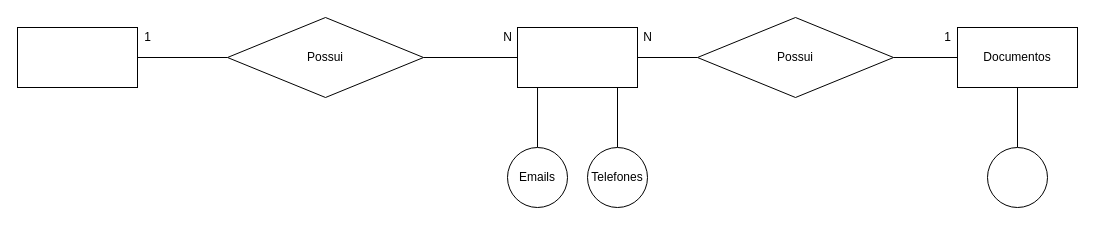
Image size: 1095x225. Some labels were removed from this diagram. The centre of each missing label's shape, as x and y in pixels:
"Cadastros" belongs at (x=577, y=57).
"CNH" belongs at (x=1017, y=177).
"Pessoas" belongs at (x=77, y=57).
